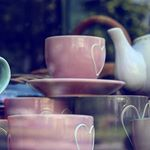cups: (27, 32, 127, 99)
